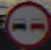No overtake: (5, 3, 46, 40)
